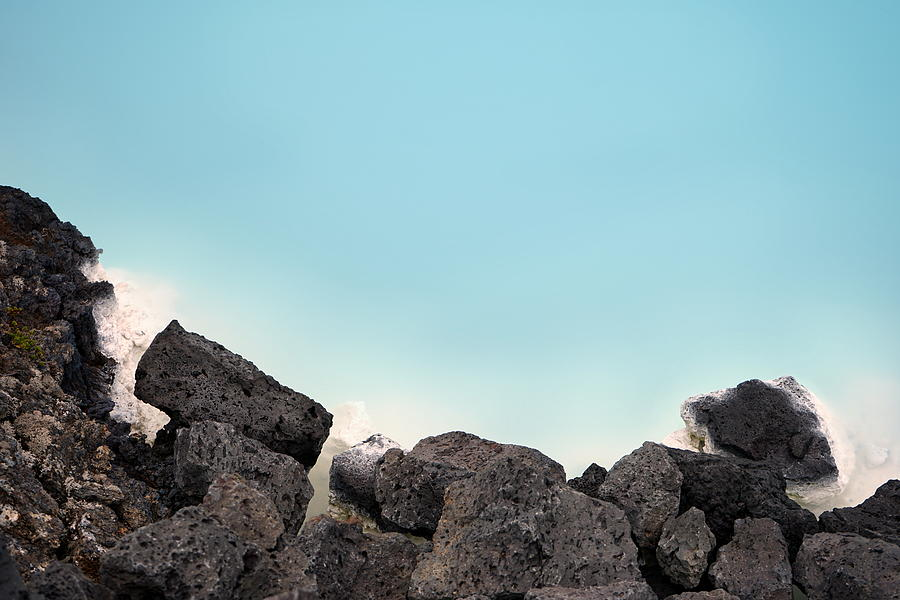volcanic_rock: (128, 328, 342, 469), (439, 471, 636, 600), (83, 491, 289, 591), (676, 387, 842, 500), (362, 444, 560, 530), (299, 521, 417, 600), (721, 514, 799, 600), (803, 528, 900, 597)
